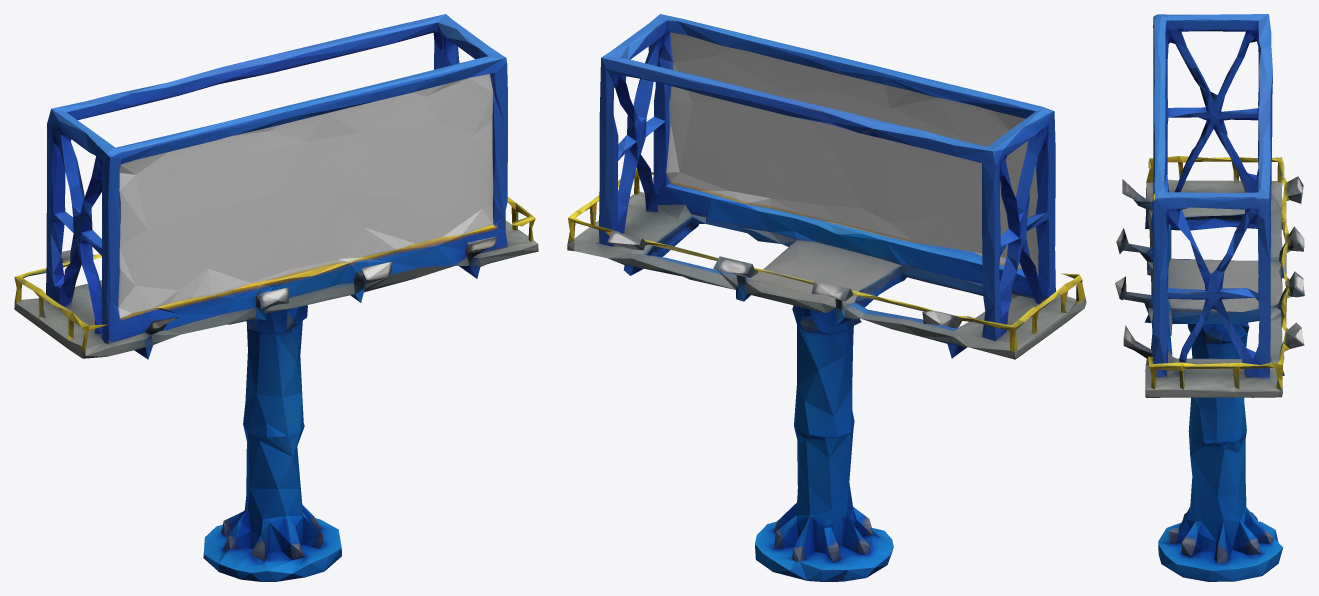
File: billboard.glb
3 renders of one model, left to right at view 1: azimuth 30°, elevation 25°; view 2: azimuth 150°, elevation 25°; view 3: azimuth 270°, elevation 25°, orthographic. The views are drawn at different scales.
Visible parts, largest first — view 1: geometry_0; view 2: geometry_0; view 3: geometry_0.
Boxes of the visible parts, box(x1,y1,x2,y2) form: geometry_0: box(14, 14, 538, 581); geometry_0: box(567, 14, 1086, 581); geometry_0: box(1115, 14, 1304, 581).
Bounding box in the file's own units: 1 × 1 × 0.3831.
Materials: 1 (1 with a texture image).
